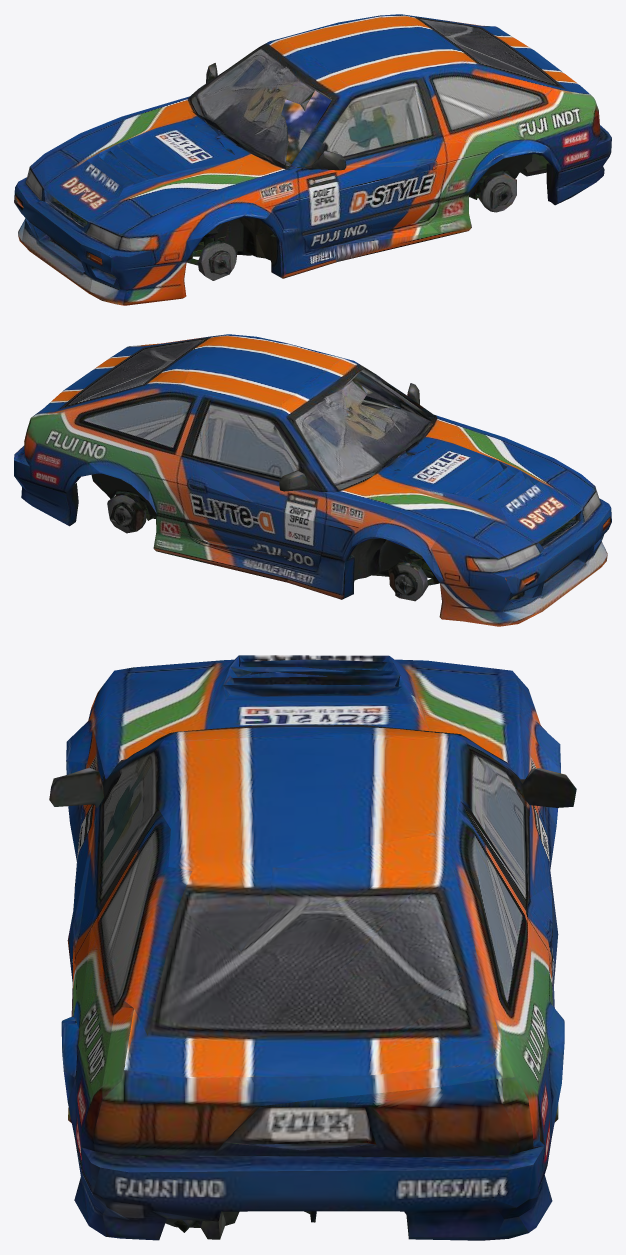
Rendered from skin5.glb.
3 views of the same model, one above another, from view 1: azimuth 30°, elevation 25°; view 2: azimuth 150°, elevation 25°; view 3: azimuth 270°, elevation 25° (orthographic). The views are drawn at different scales.
Size of the model in its own units: 1.9 by 0.5514 by 0.8488.
Materials: 1 (1 with a texture image).
